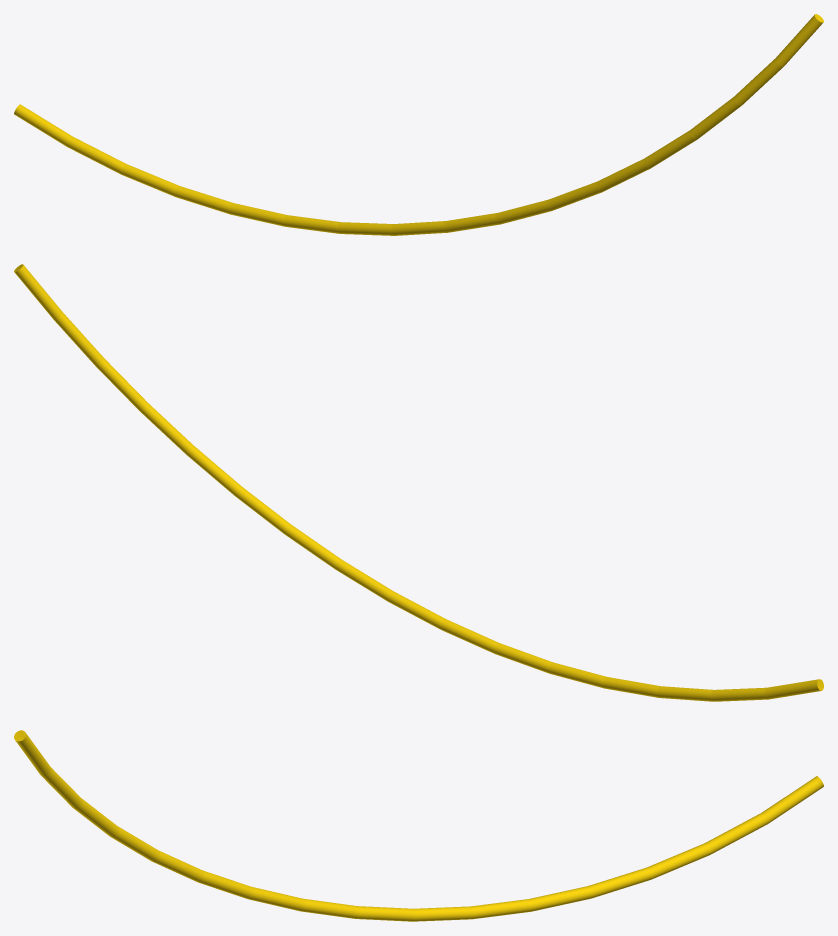
File: Event_421556567_track_7.fbx
3 renders of one model, top to bottom at view 1: azimuth 30°, elevation 25°; view 2: azimuth 210°, elevation 25°; view 3: azimuth 270°, elevation 25°, orthographic. The views are drawn at different scales.
Visible parts, largest first — view 1: Model; view 2: Model; view 3: Model.
Boxes of the visible parts, <box> form: Model: <box>14,14,823,235</box>; Model: <box>14,264,823,701</box>; Model: <box>14,730,823,921</box>.
Size of the model in its own units: 1.71 by 1.15 by 2.49.
